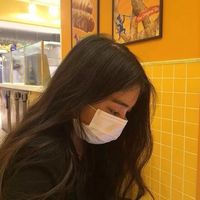face_mask: (79, 80, 140, 144)
